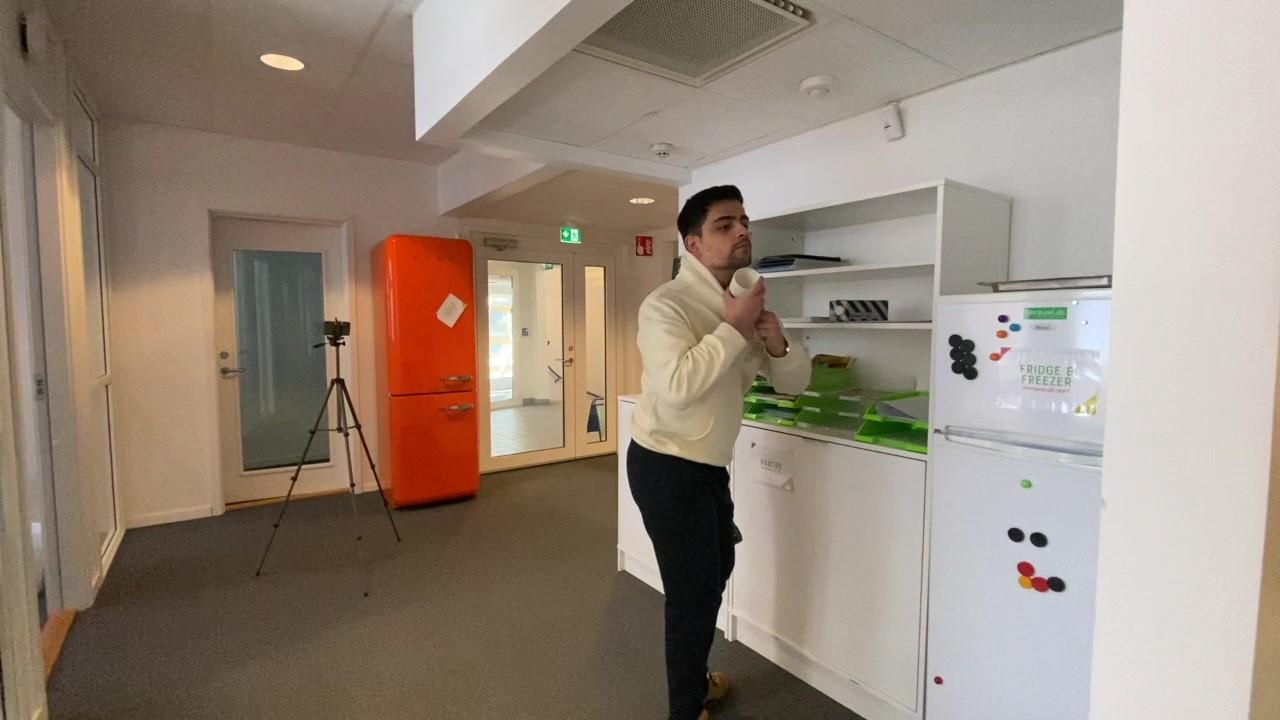shoplifting: (629, 187, 810, 718)
